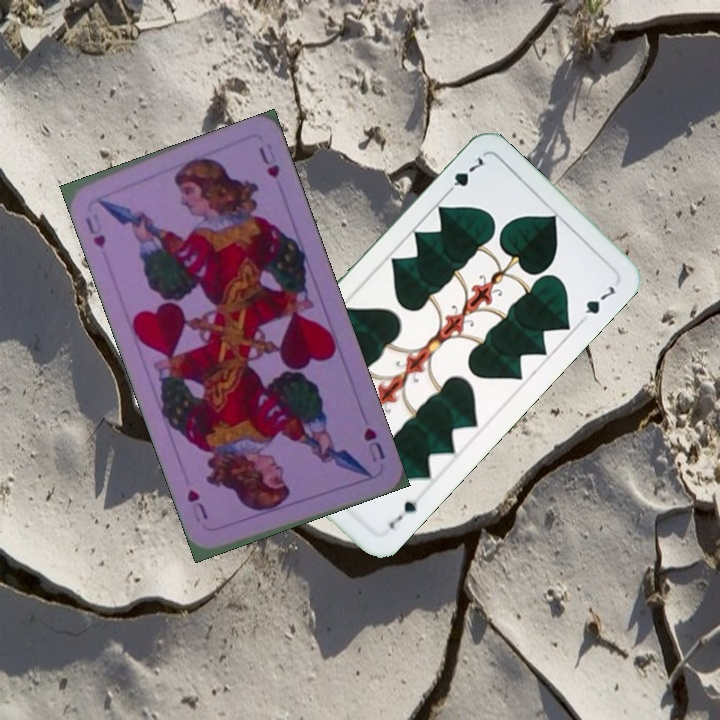G7: (440, 152, 488, 199), (384, 496, 420, 532)
HU: (359, 423, 388, 465), (81, 207, 108, 251)
